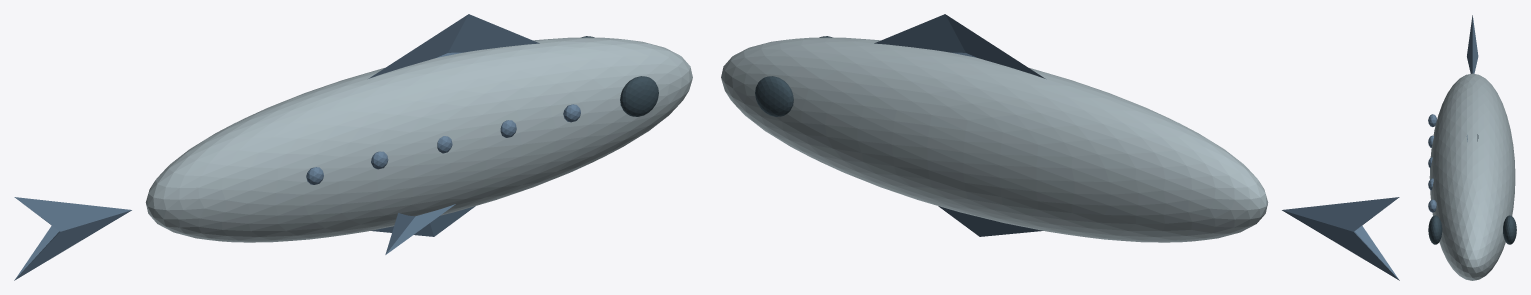
Rendered from Ikan_Kembung.glb.
3 renders of one model, left to right at view 1: azimuth 30°, elevation 25°; view 2: azimuth 150°, elevation 25°; view 3: azimuth 270°, elevation 25°, orthographic. The views are drawn at different scales.
Visible parts, largest first — view 1: Part_00, Part_01, Part_02, Part_05, Part_04, Part_03; view 2: Part_00, Part_01, Part_02, Part_06, Part_03; view 3: Part_00, Part_01, Part_05, Part_06, Part_11, Part_07.
Boxes of the visible parts, x1,y1,x2,y2 form: Part_00: [145, 37, 692, 242]; Part_01: [14, 197, 131, 280]; Part_02: [368, 14, 539, 78]; Part_05: [620, 76, 658, 116]; Part_04: [385, 204, 455, 254]; Part_03: [371, 206, 475, 236]; Part_00: [721, 37, 1268, 242]; Part_01: [1282, 197, 1399, 280]; Part_02: [874, 14, 1045, 78]; Part_06: [755, 76, 793, 116]; Part_03: [938, 206, 1042, 236]; Part_00: [1429, 73, 1515, 280]; Part_01: [1467, 15, 1478, 73]; Part_05: [1428, 215, 1442, 244]; Part_06: [1503, 215, 1516, 244]; Part_11: [1428, 199, 1436, 212]; Part_07: [1428, 114, 1436, 126].
Size of the model in its own units: 1.37 by 0.4147 by 0.2284.
